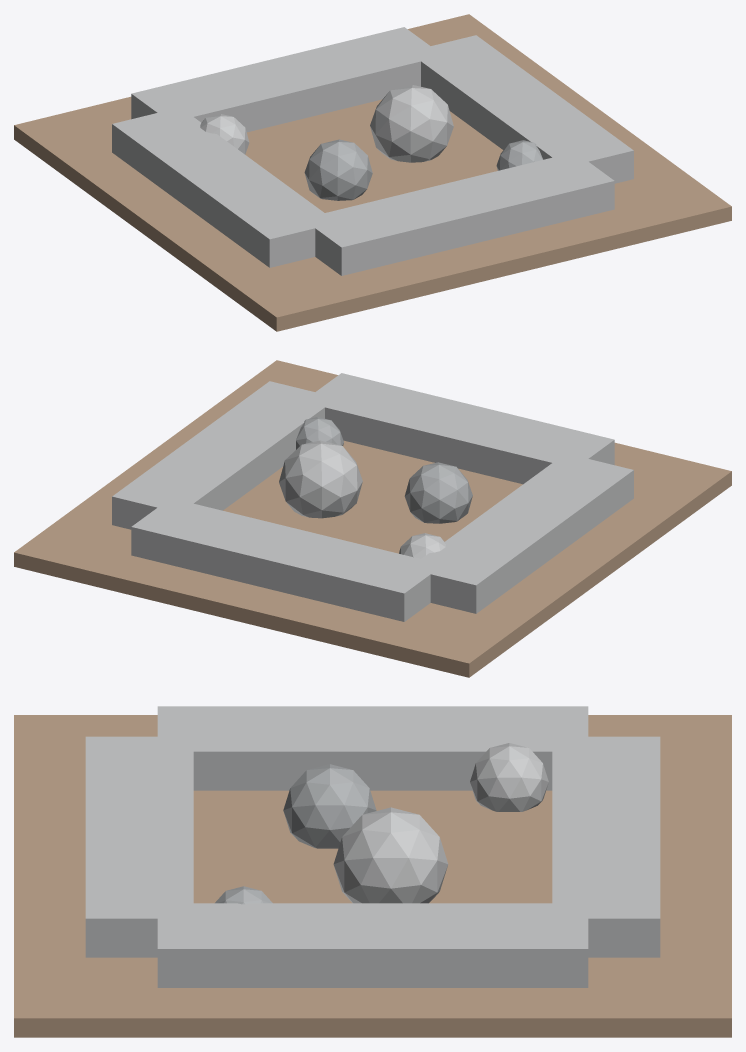
File: quarry.glb
3 renders of one model, top to bottom at view 1: azimuth 30°, elevation 25°; view 2: azimuth 150°, elevation 25°; view 3: azimuth 270°, elevation 25°, orthographic. The views are drawn at different scales.
Visible parts, largest first — view 1: ground, rim_3, rim_0, rim_2, rim_1, boulder_1, boulder_0, boulder_3, boulder_2; view 2: ground, rim_2, rim_3, rim_0, rim_1, boulder_1, boulder_0, boulder_2, boulder_3; view 3: ground, rim_1, rim_0, rim_2, rim_3, boulder_1, boulder_0, boulder_3, boulder_2.
Part boxes in pixels (box(x1,y1,x2,y2)): ground: box(14, 14, 731, 331); rim_3: box(303, 152, 614, 275); rim_0: box(112, 108, 324, 267); rim_2: box(131, 27, 442, 132); rim_1: box(408, 35, 633, 183); boulder_1: box(370, 85, 453, 162); boulder_0: box(304, 139, 372, 200); boulder_3: box(200, 114, 249, 154); boulder_2: box(496, 140, 542, 170); ground: box(14, 360, 731, 677); rim_2: box(131, 498, 443, 621); rim_3: box(306, 373, 614, 484); rim_0: box(421, 453, 633, 613); rim_1: box(112, 381, 337, 529); boulder_1: box(279, 440, 362, 518); boulder_0: box(404, 462, 472, 523); boulder_2: box(296, 417, 343, 449); boulder_3: box(399, 533, 445, 558); ground: box(14, 715, 731, 1037); rim_1: box(157, 903, 588, 987); rim_0: box(157, 706, 588, 790); rim_2: box(552, 736, 660, 957); rim_3: box(85, 736, 193, 957); boulder_1: box(333, 807, 448, 903); boulder_0: box(283, 764, 376, 848); boulder_3: box(470, 743, 548, 811); boulder_2: box(215, 886, 272, 904).
Size of the model in its own units: 2 by 0.32 by 2.
